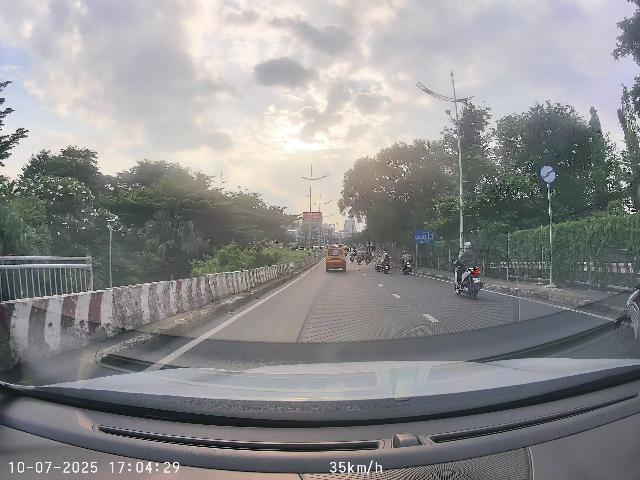135-het-tat-ca-cac-lenh-cam: (540, 164, 557, 184)
